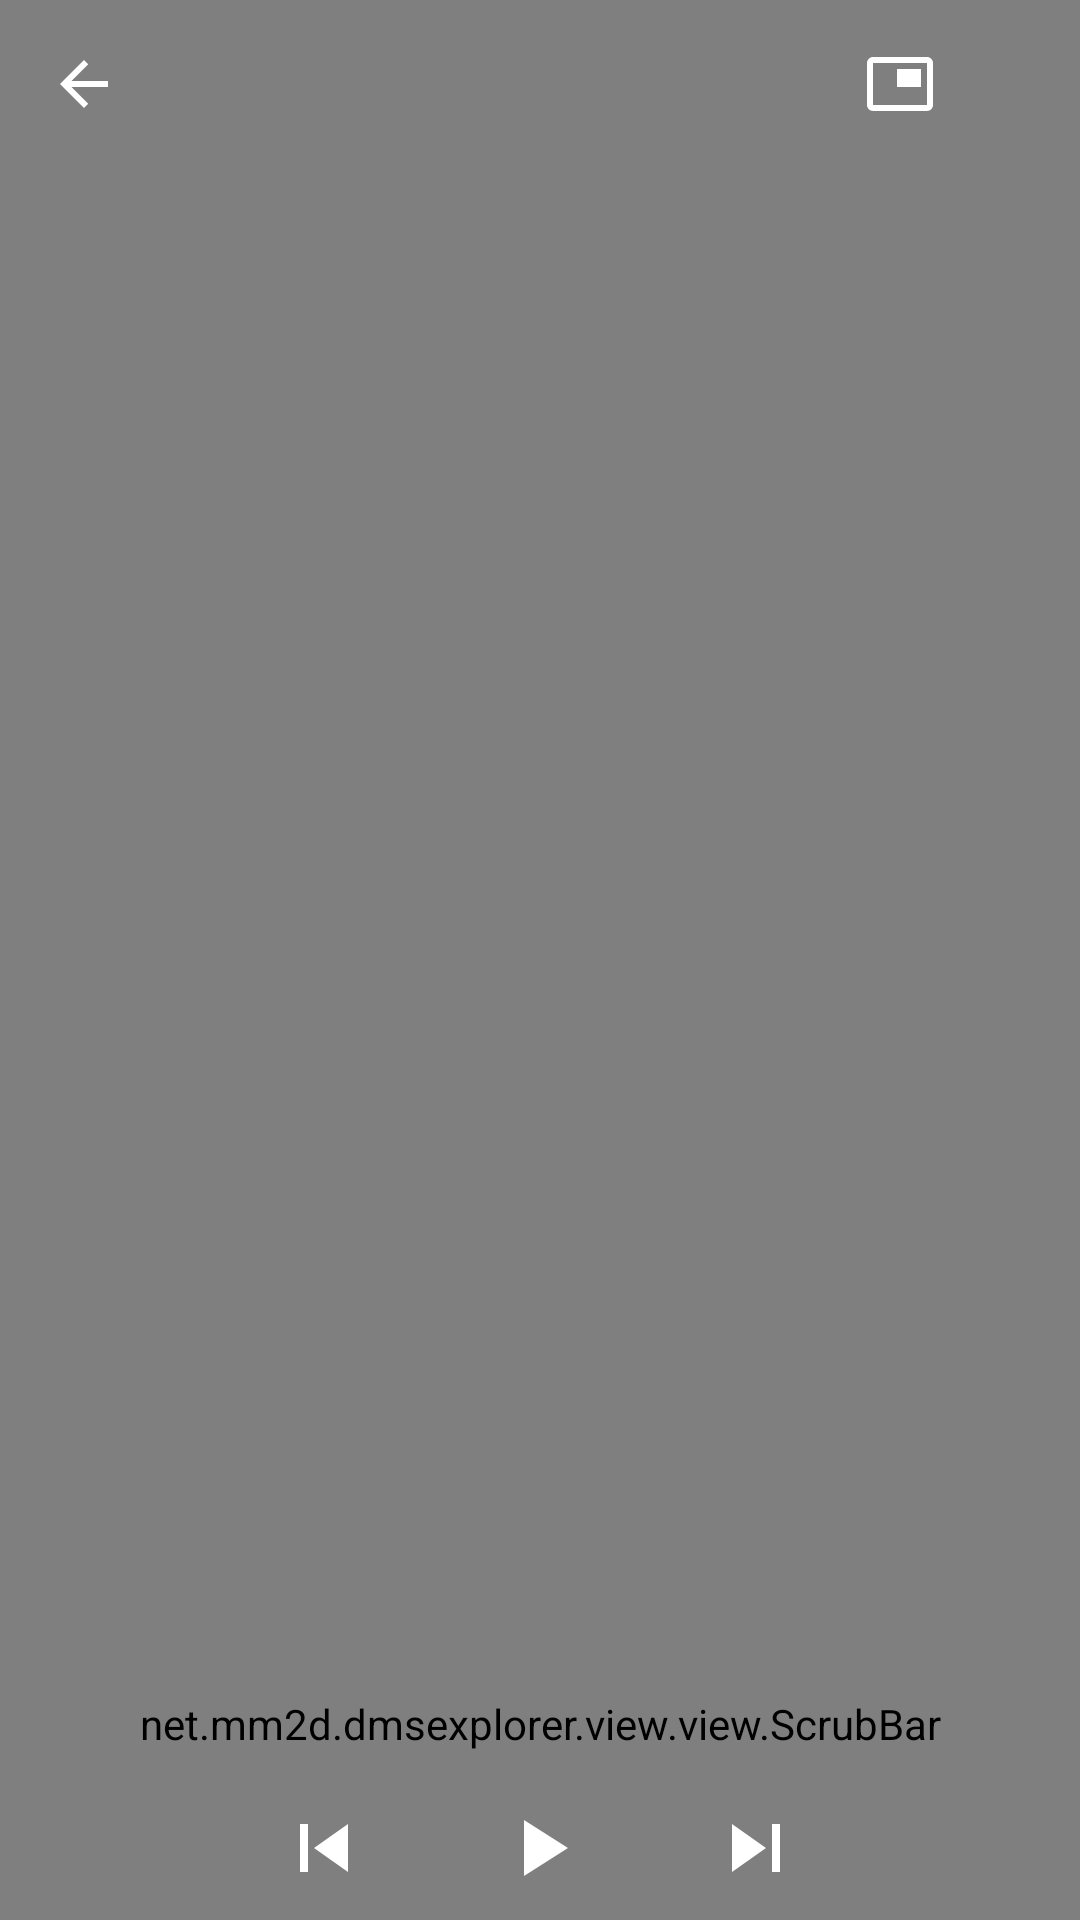

Where to tap for icons on this 1080 × 1920 app screen, as (x,y):
arrow back: (84,84)
picture in: (900,84)
play: (546,1848)
skip next: (756,1848)
skip previous: (324,1848)
